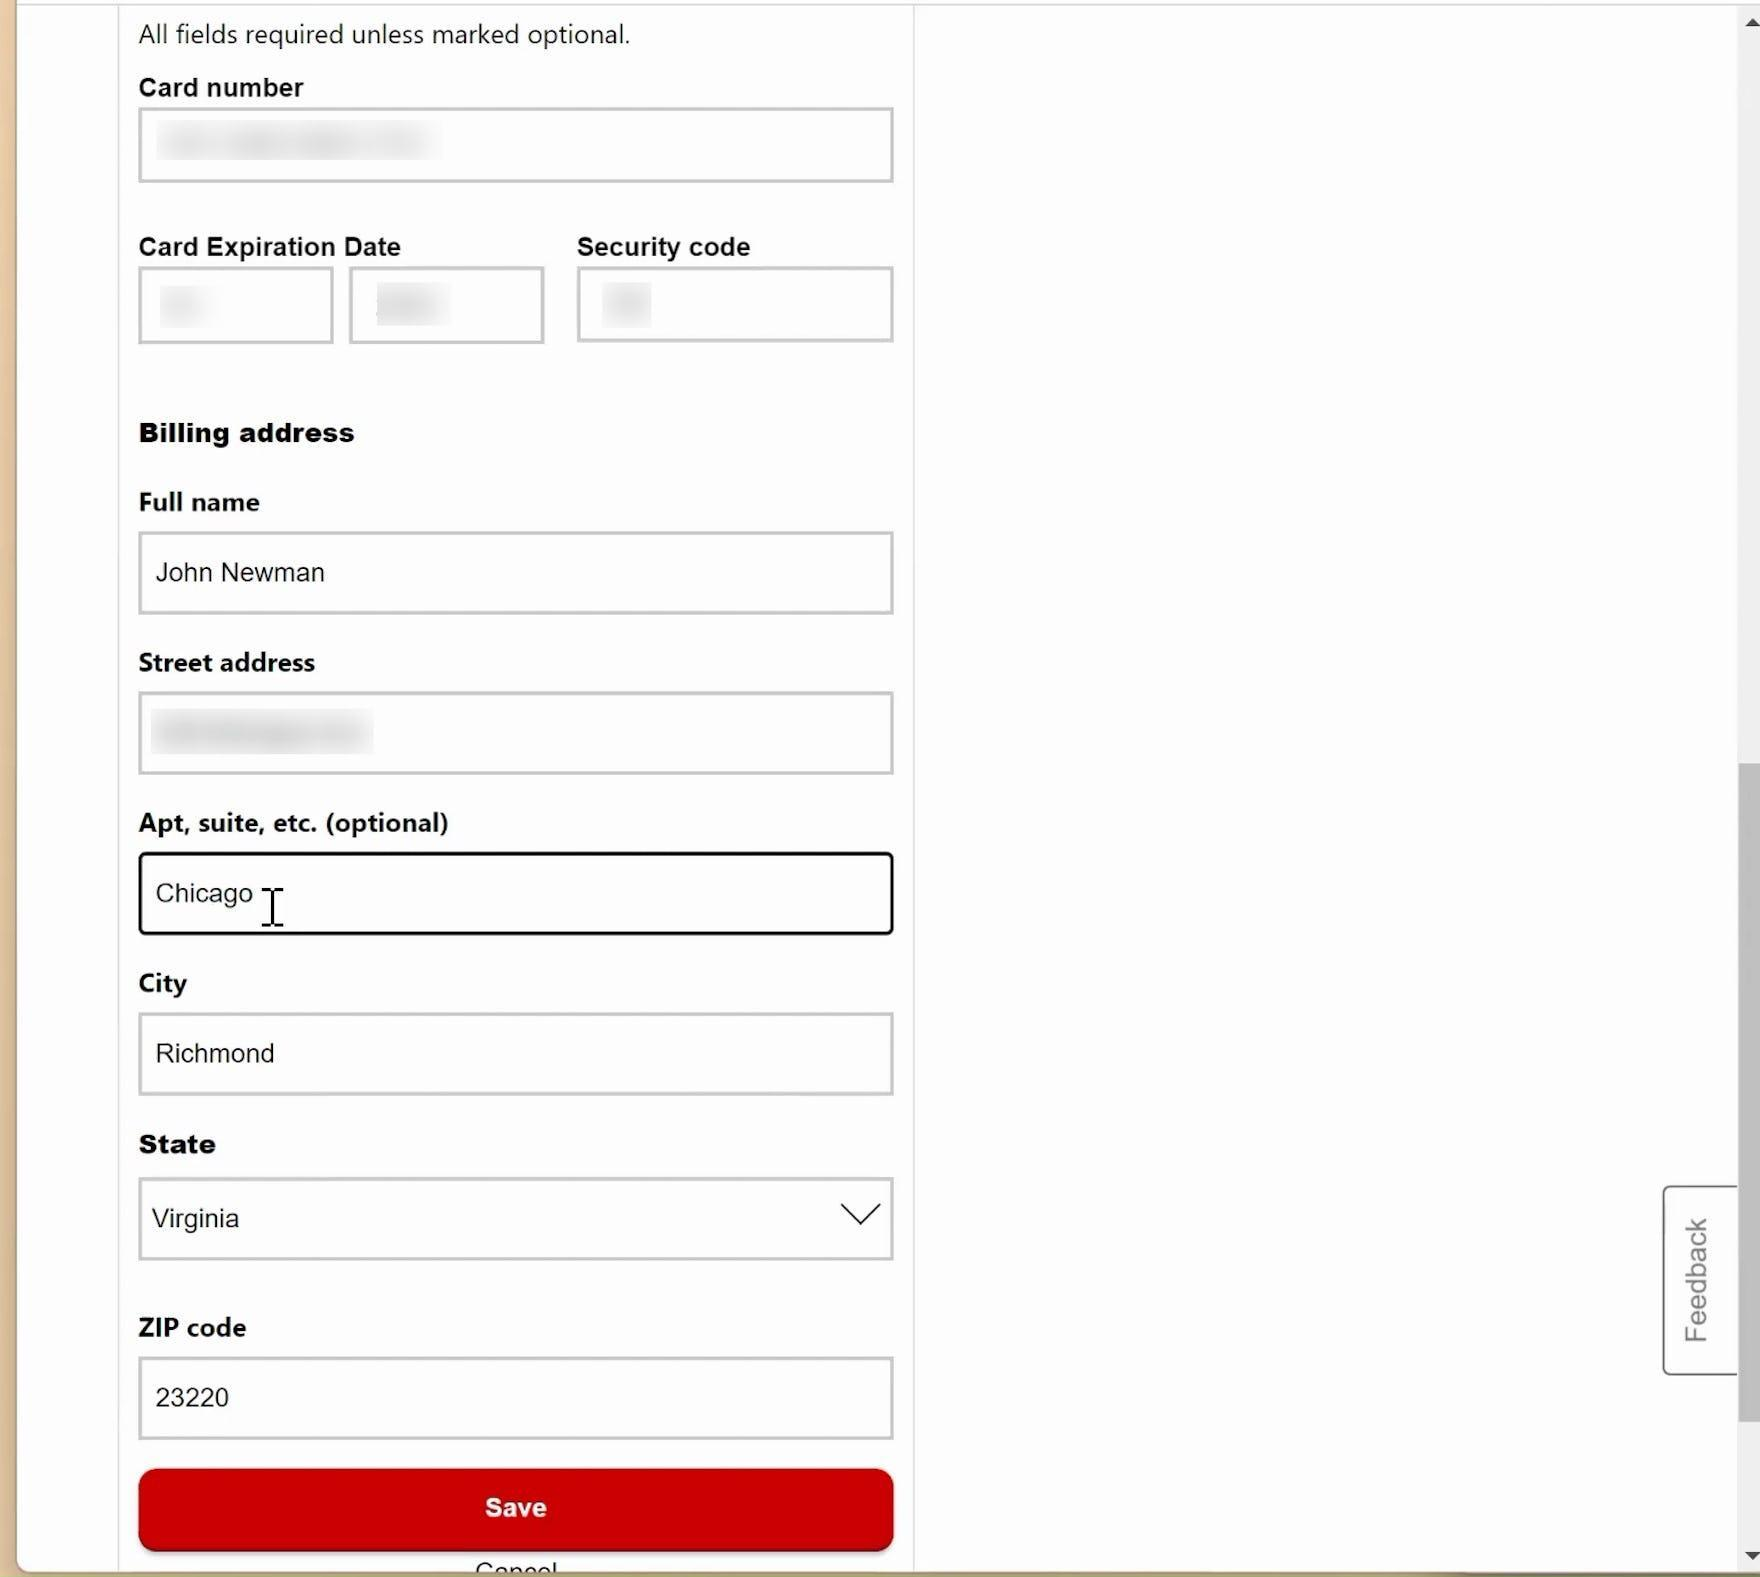button: (132, 1466, 898, 1565)
dropdown: (136, 1177, 897, 1268)
input: (129, 683, 900, 782), (137, 1349, 897, 1448), (134, 527, 903, 621), (134, 100, 900, 190), (137, 1011, 900, 1101), (142, 855, 898, 942), (571, 263, 898, 349), (343, 260, 551, 350), (132, 263, 338, 346)
label: (132, 15, 638, 53), (134, 808, 451, 840), (136, 227, 413, 260), (136, 417, 356, 449), (571, 231, 757, 263), (134, 648, 320, 677), (128, 73, 311, 100), (137, 1311, 254, 1344), (136, 490, 266, 518), (137, 1133, 222, 1158), (140, 968, 190, 1002)
